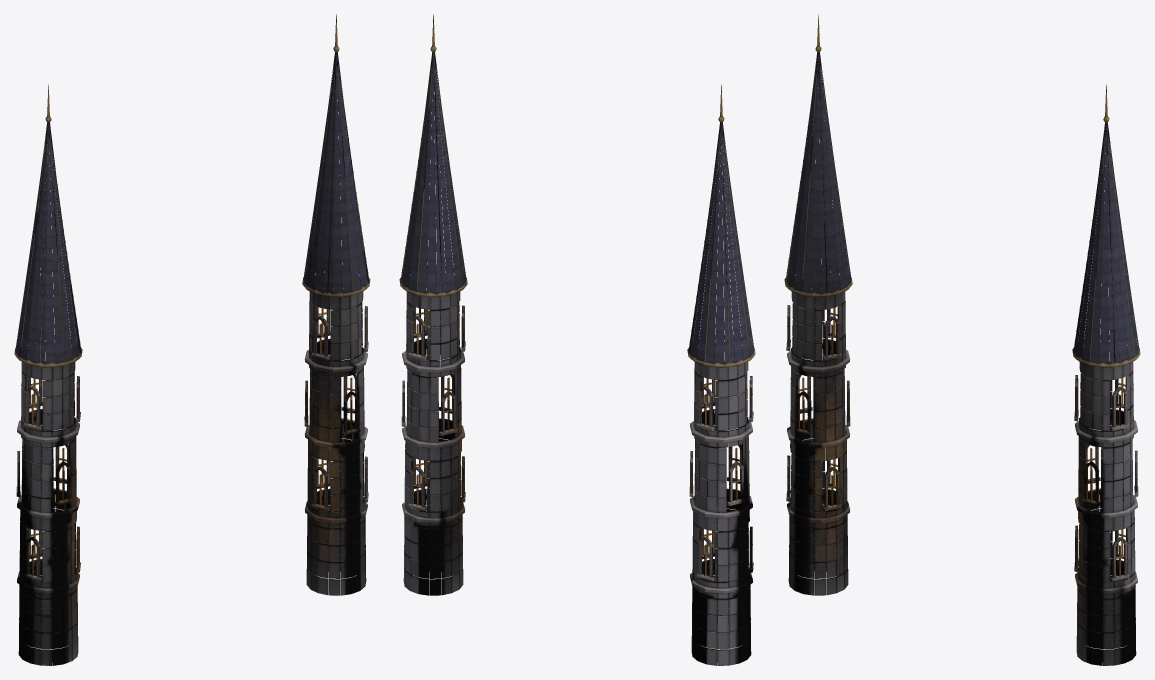
File: expand_rear_towers.glb
The picture shows the model from 3 angles, left to right: view 1: azimuth 30°, elevation 25°; view 2: azimuth 150°, elevation 25°; view 3: azimuth 330°, elevation 25°; orthographic projection.
Parts seen in each view (by area): view 1: expand_rear_towers_GI; view 2: expand_rear_towers_GI; view 3: expand_rear_towers_GI.
Part boxes in pixels (left/top/right/bottom): expand_rear_towers_GI: left=14, top=14, right=370, bottom=665; expand_rear_towers_GI: left=399, top=14, right=755, bottom=665; expand_rear_towers_GI: left=784, top=14, right=1140, bottom=665.
Bounding box in the file's own units: 26.55 × 41.59 × 4.55.
Materials: 1 (1 with a texture image).
